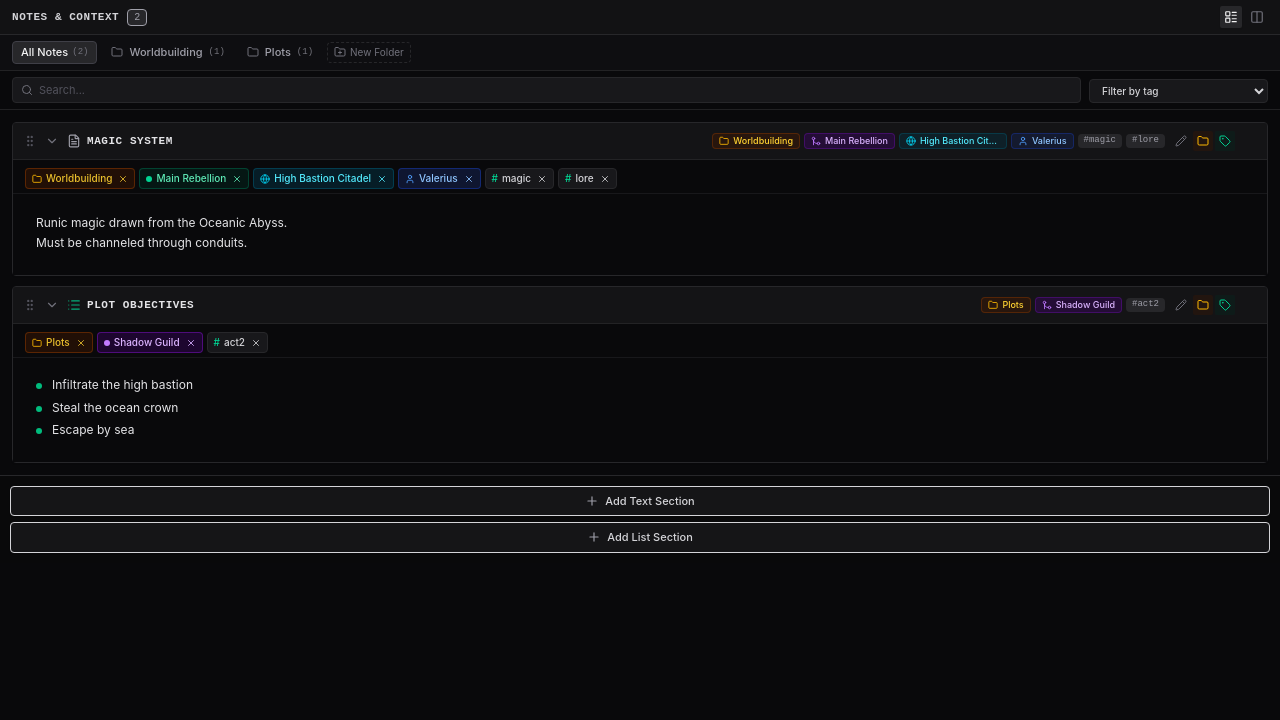
Scenario: ContextPanel and ContextBlockItem (Notes View) › displays folders and filters notes when clicking folder pills
Expected: the button "Plots (1)" is shown, [239, 42, 321, 62]
Expected: the text "Magic System" is shown, [87, 135, 173, 147]
# Filter by 'Worldbuilding'
Step 1. Click the button "Worldbuilding (1)" → click(168, 52), box [104, 42, 233, 62]
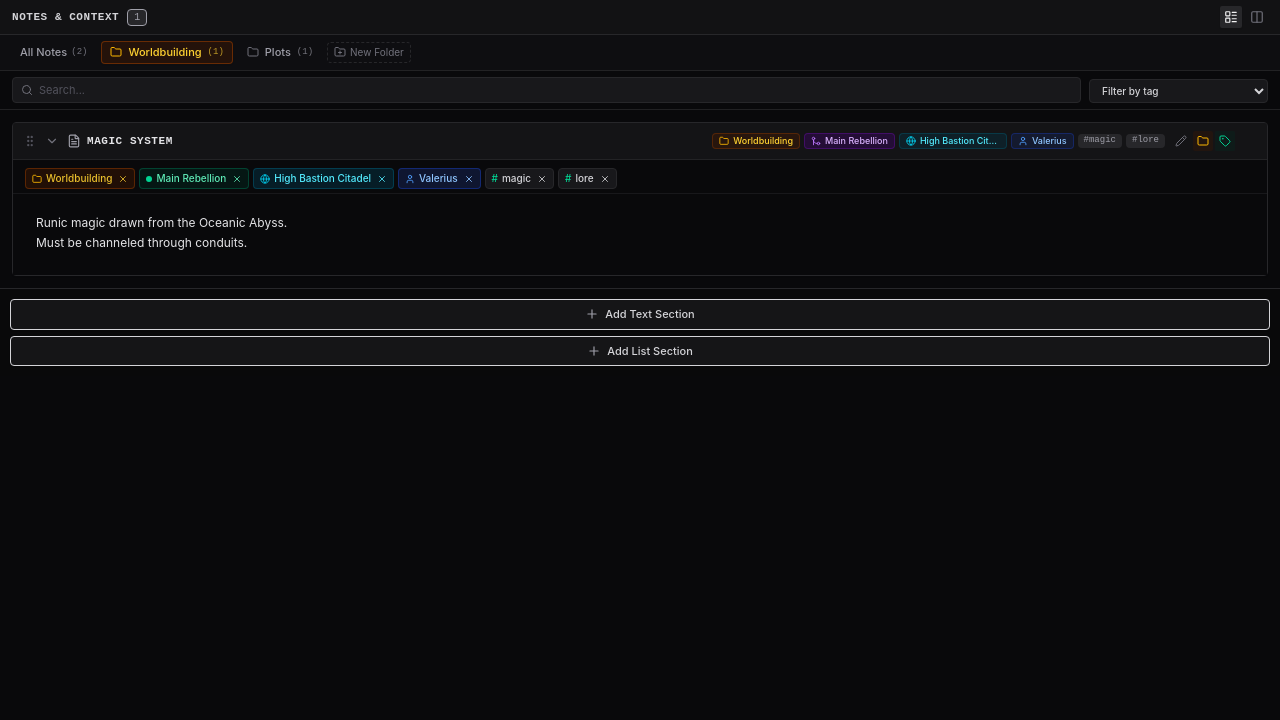
Expected: the text "Magic System" is shown, [87, 135, 173, 147]
Expected: the text "Plot Objectives" is gone
# Filter by 'Plots'
Step 2. Click the button "Plots (1)" → click(280, 52), box [239, 42, 321, 62]
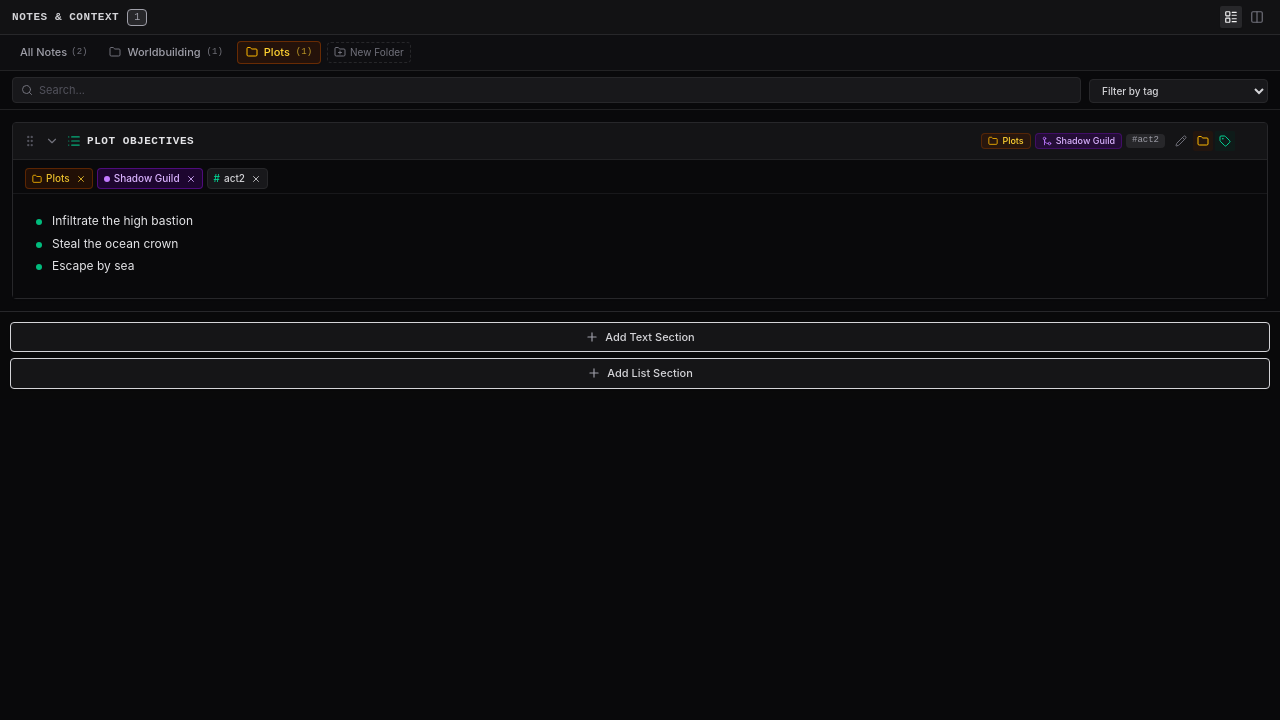
Expected: the text "Magic System" is gone
Expected: the text "Plot Objectives" is shown, [87, 135, 194, 147]
# Return to All
Step 3. Click the button "All Notes (2)" → click(54, 52), box [12, 42, 96, 62]
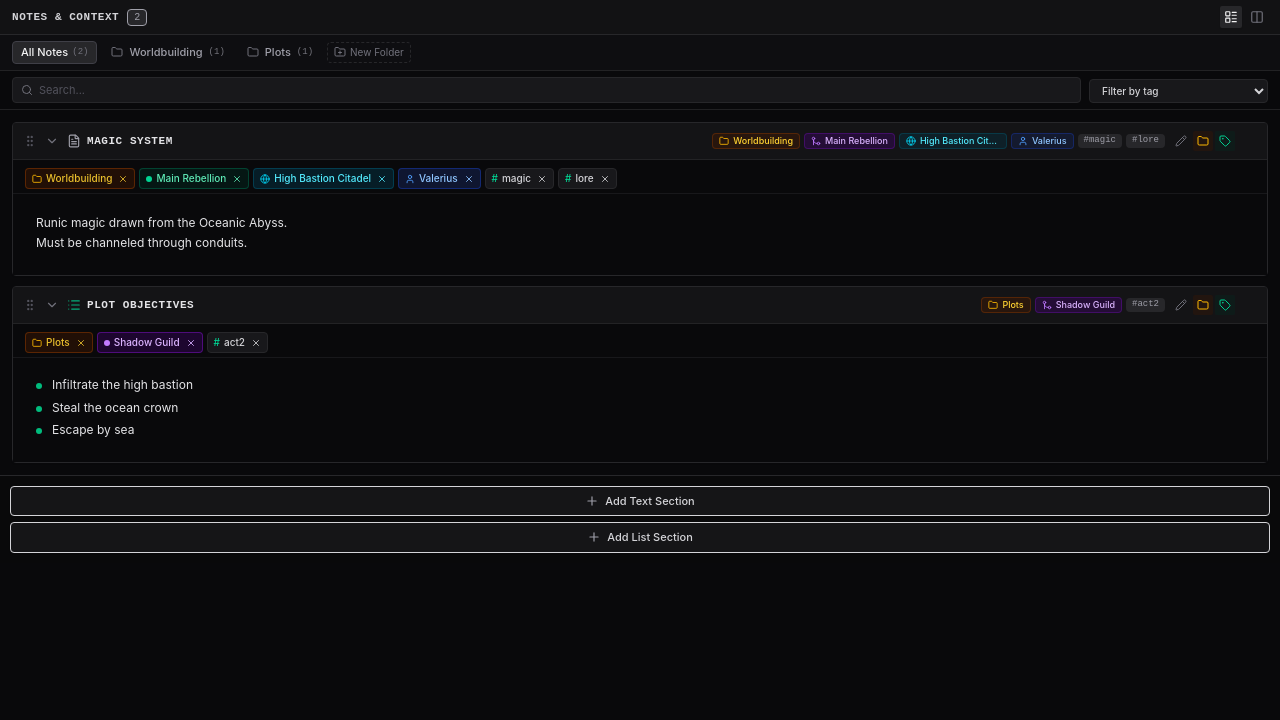
Expected: the text "Plot Objectives" is shown, [87, 299, 194, 311]
Expected: the text "Magic System" is shown, [87, 135, 173, 147]
